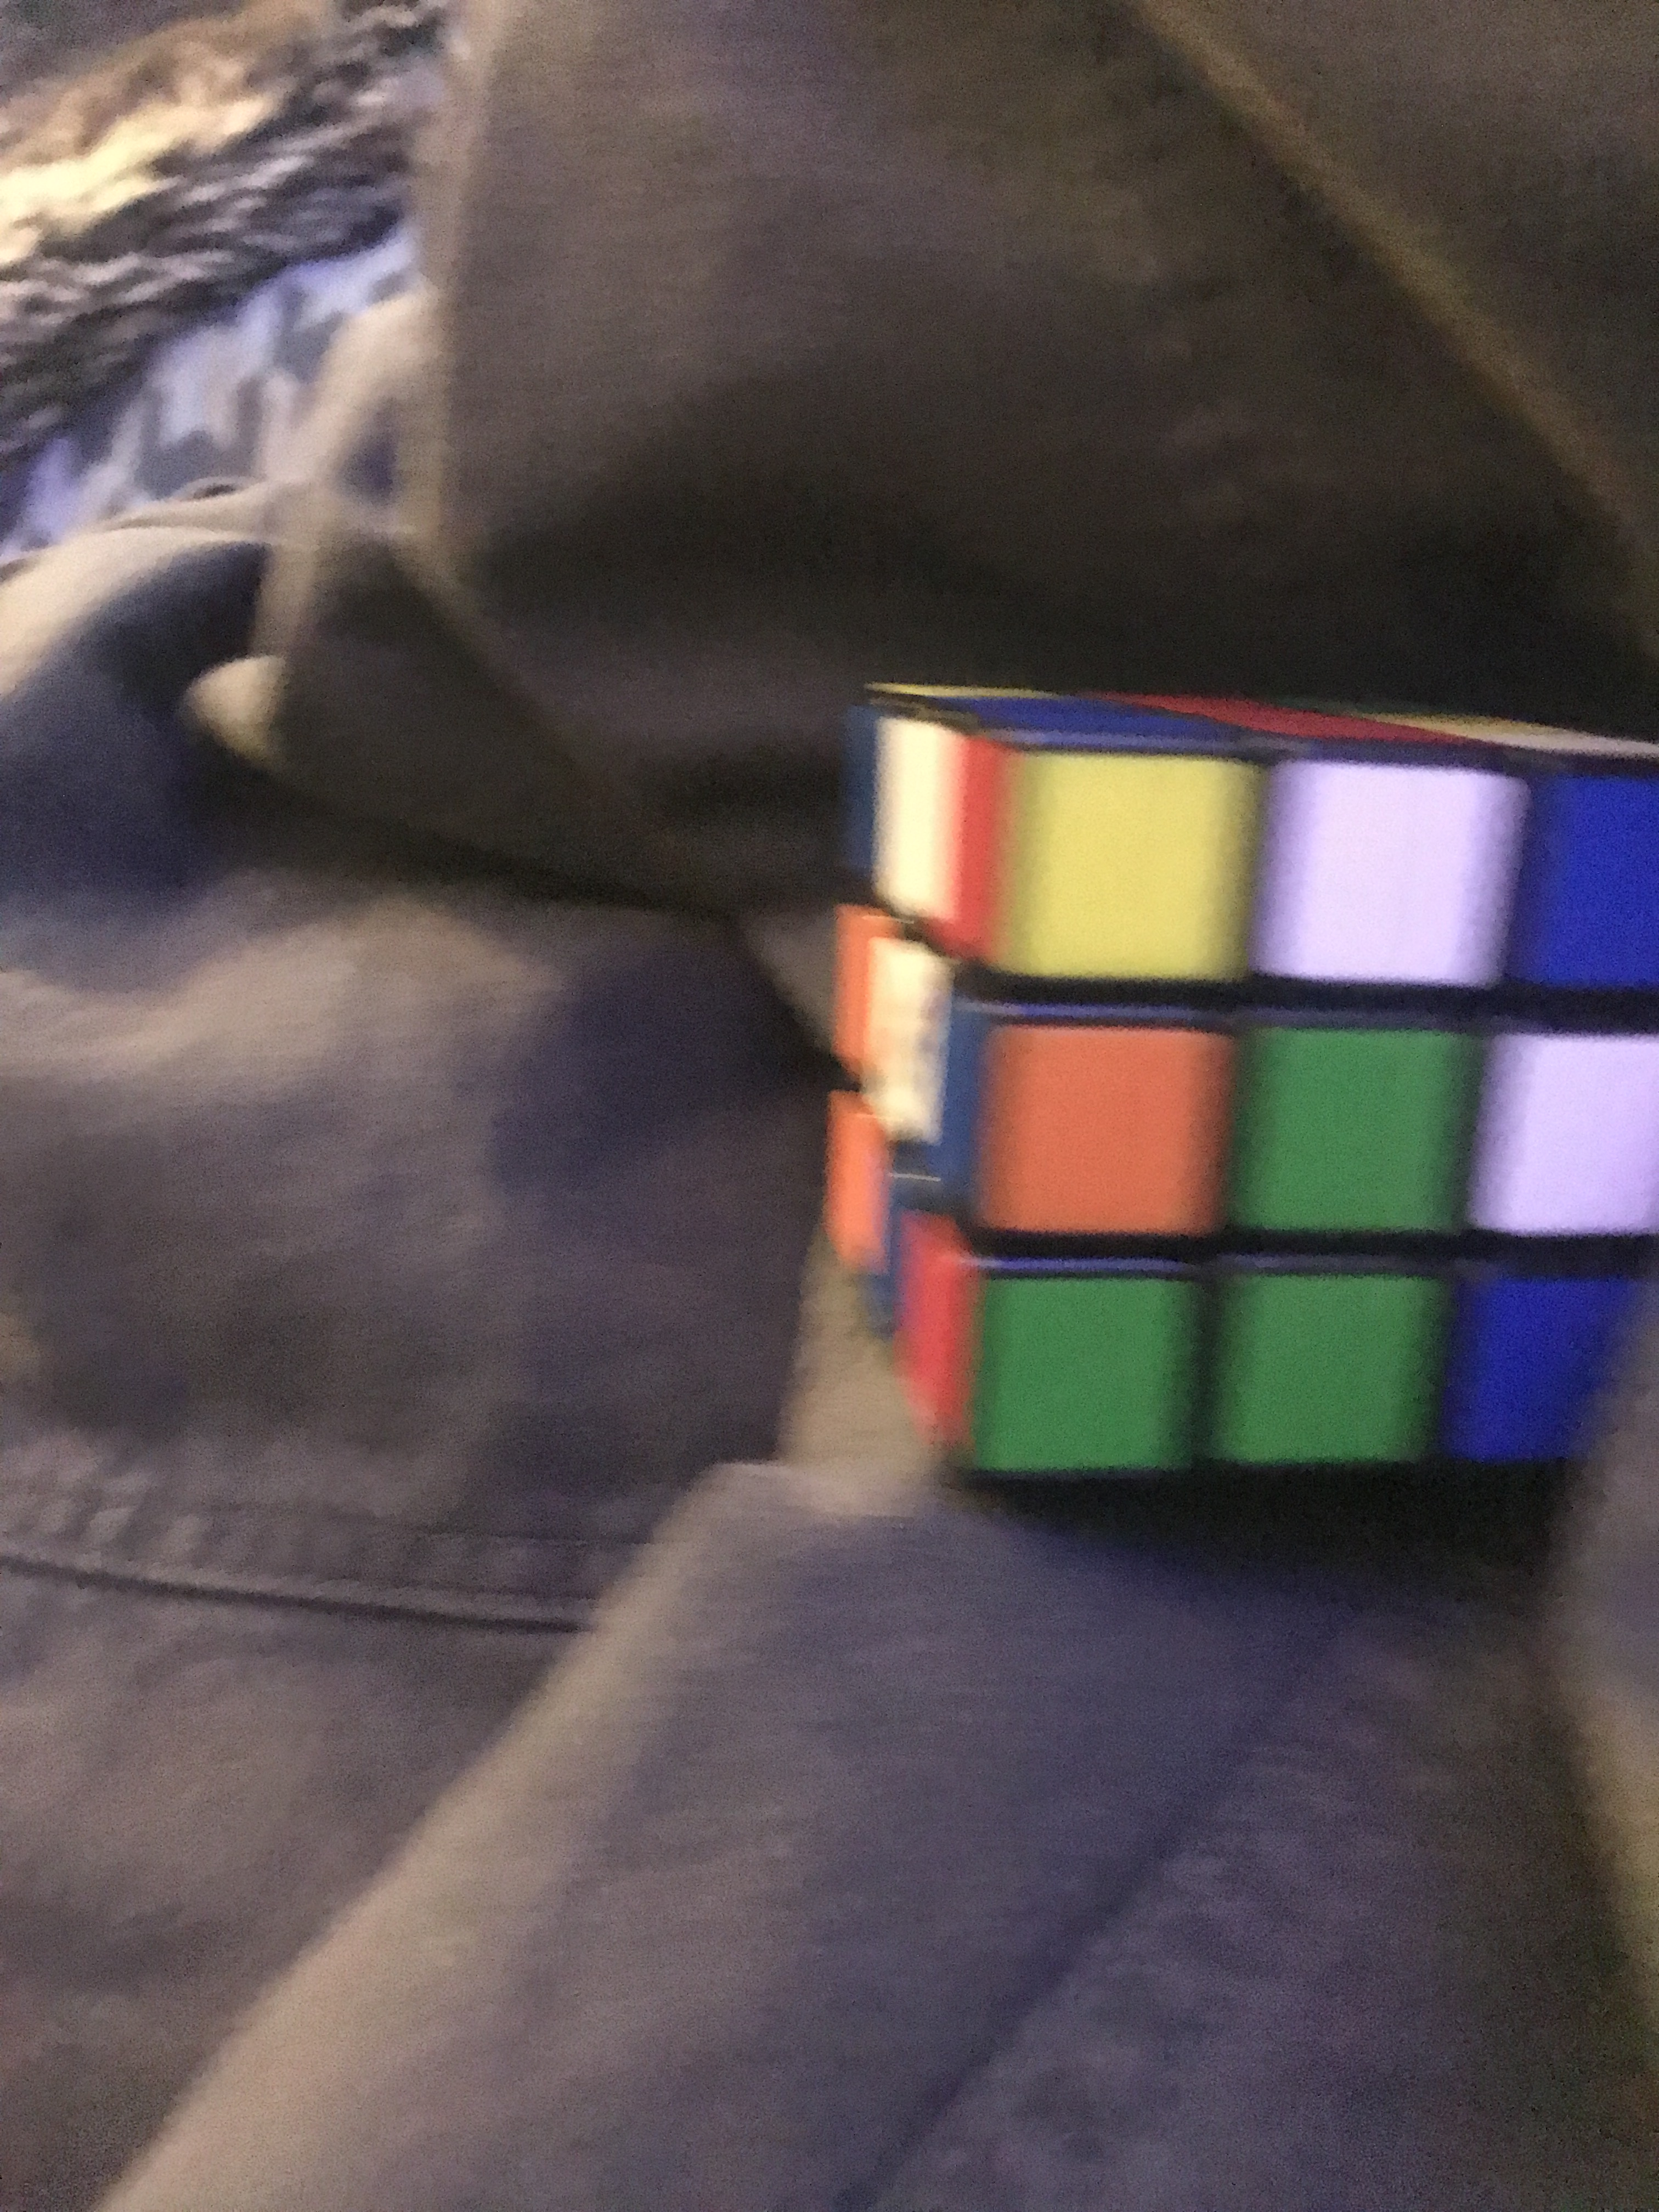rubiks: (817, 665, 1659, 1494)
